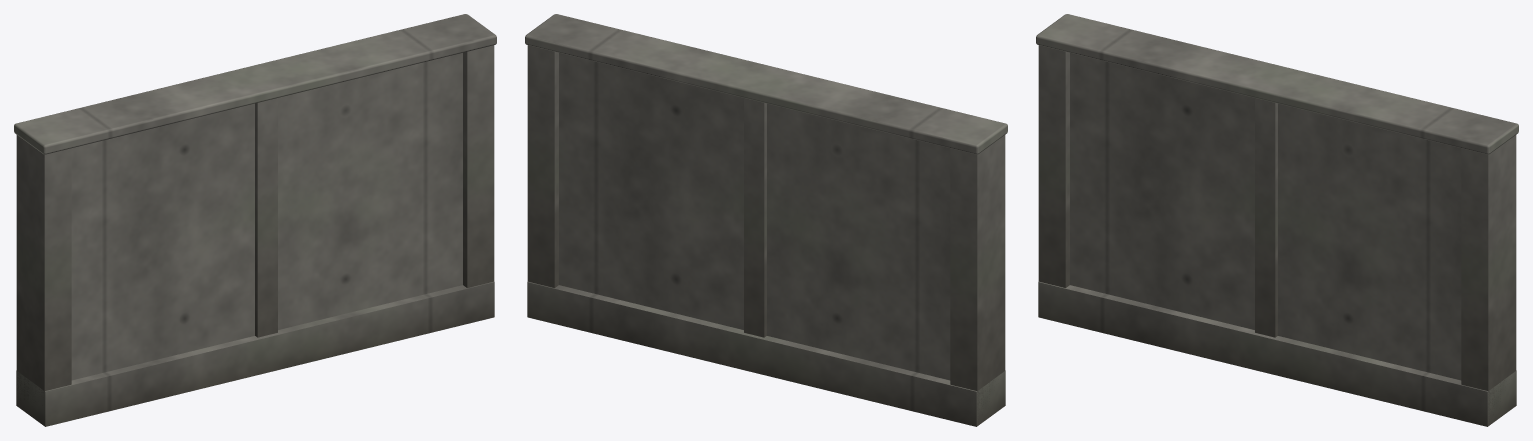
Rendered from map_concrete_wall.glb.
The picture shows the model from 3 angles, left to right: view 1: azimuth 30°, elevation 25°; view 2: azimuth 150°, elevation 25°; view 3: azimuth 330°, elevation 25°; orthographic projection.
Visible parts, largest first — view 1: concrete_wall_root; view 2: concrete_wall_root; view 3: concrete_wall_root.
Boxes of the visible parts, x1,y1,x2,y2 form: concrete_wall_root: [14, 14, 496, 426]; concrete_wall_root: [525, 14, 1007, 426]; concrete_wall_root: [1036, 14, 1518, 426].
Bounding box in the file's own units: 4.04 × 2.4 × 0.48.
Materials: 1 (1 with a texture image).
